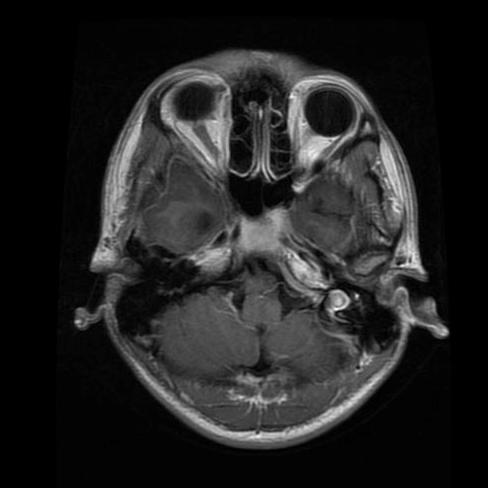Tumour-Glioma: (135, 241, 202, 321)
